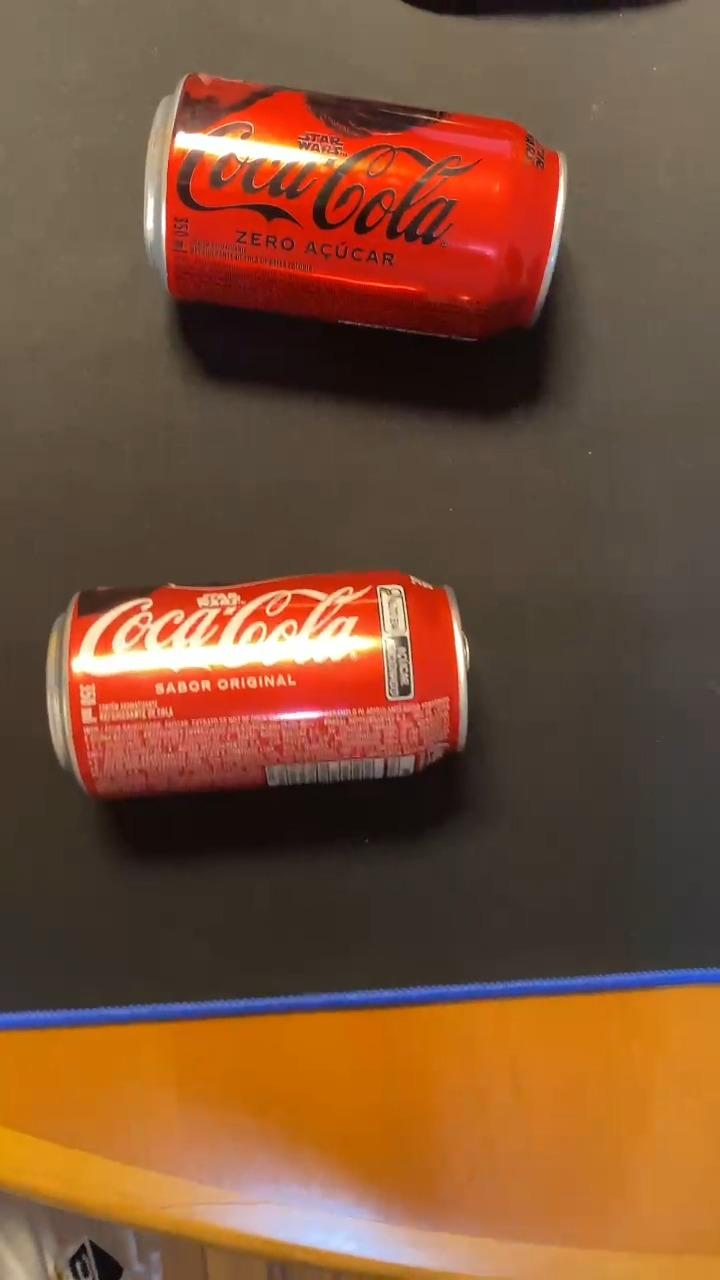coke: (140, 77, 573, 342), (47, 571, 479, 803)
